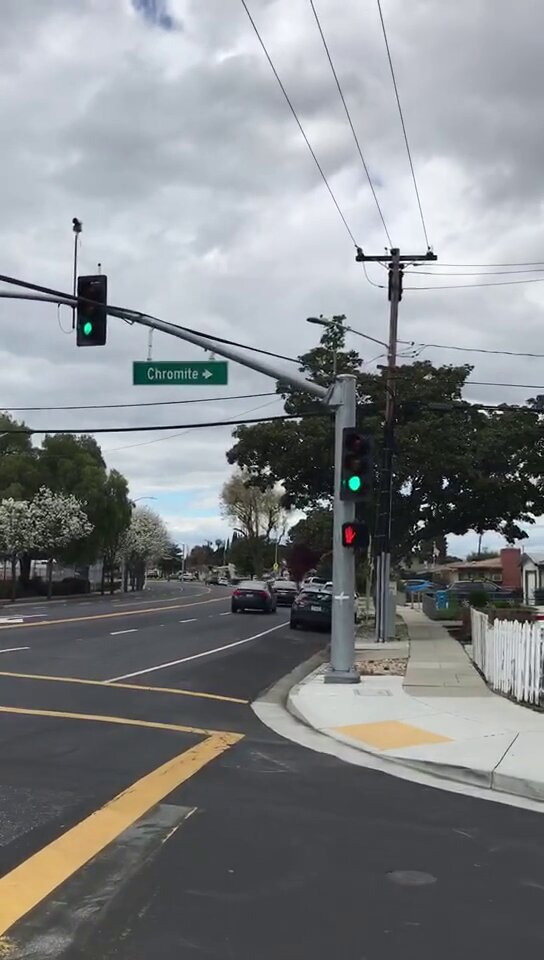green_light: (78, 276, 108, 346), (343, 429, 372, 500)
